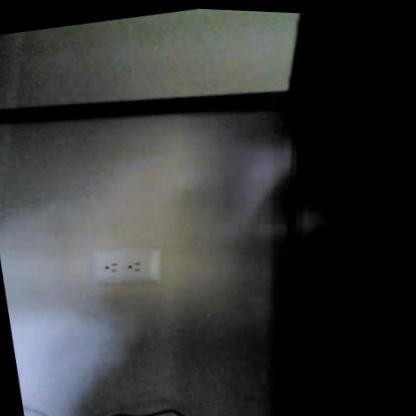OUTLET: (87, 237, 165, 292)
